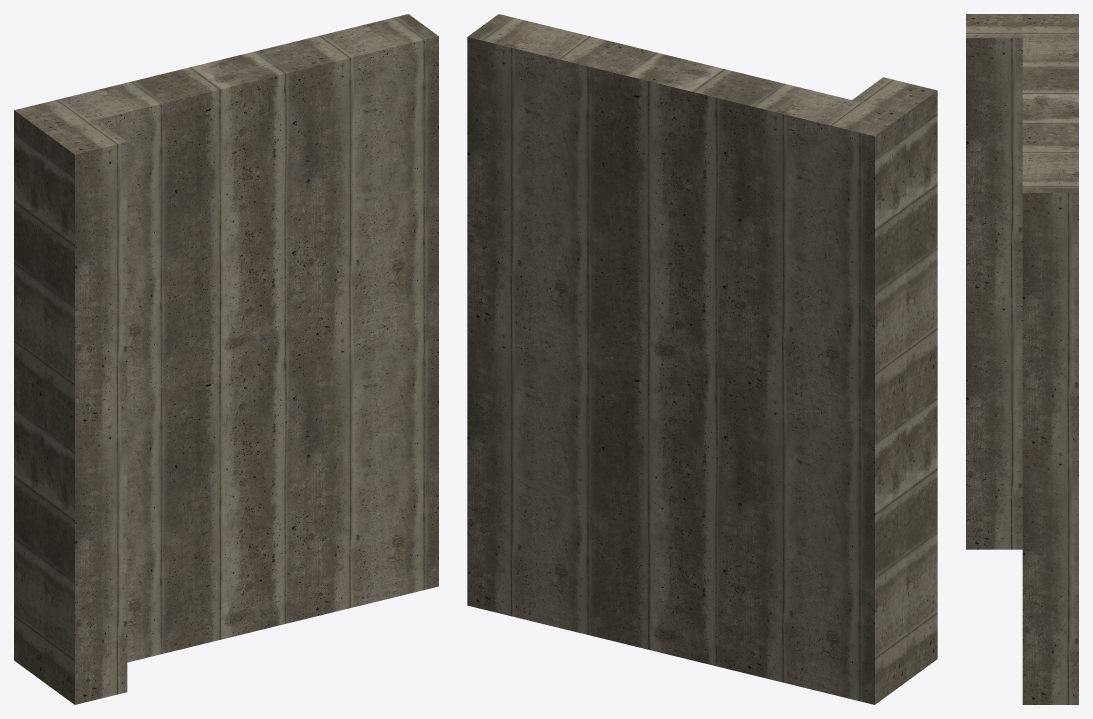
Rendered from wall_end.glb.
3 renders of one model, left to right at view 1: azimuth 30°, elevation 25°; view 2: azimuth 150°, elevation 25°; view 3: azimuth 270°, elevation 25°, orthographic. The views are drawn at different scales.
Visible parts, largest first — view 1: wall_end-col; view 2: wall_end-col; view 3: wall_end-col.
Part boxes in pixels (x1,y1,x2,y2): wall_end-col: [14, 14, 438, 704]; wall_end-col: [467, 14, 937, 704]; wall_end-col: [966, 14, 1078, 704].
Size of the model in its own units: 1.5 by 2 by 0.4.
1 material, 1 textured.
